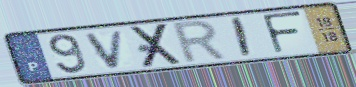9: (47, 33, 89, 76)
F: (259, 10, 305, 56)
I: (231, 16, 254, 60)
R: (171, 18, 231, 66)
V: (83, 28, 127, 70)
X: (128, 21, 186, 70)
